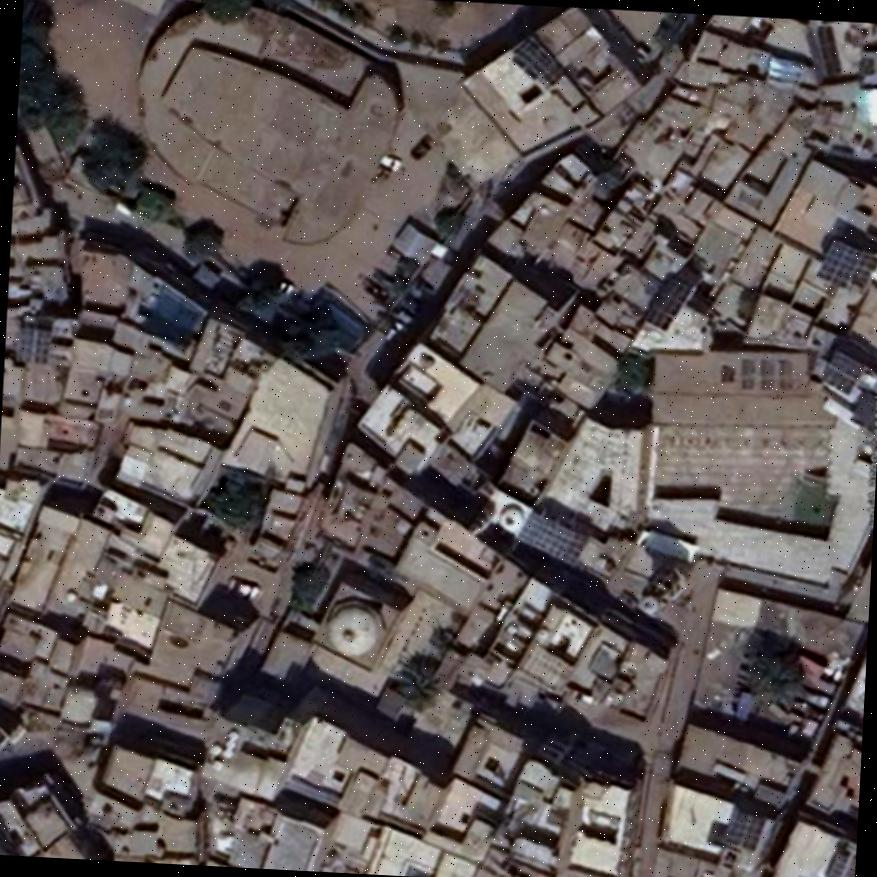Solarpanel: (517, 513, 585, 566), (817, 240, 877, 286), (642, 279, 691, 329), (817, 351, 863, 394), (720, 810, 766, 849), (16, 322, 51, 365), (826, 851, 854, 877)
